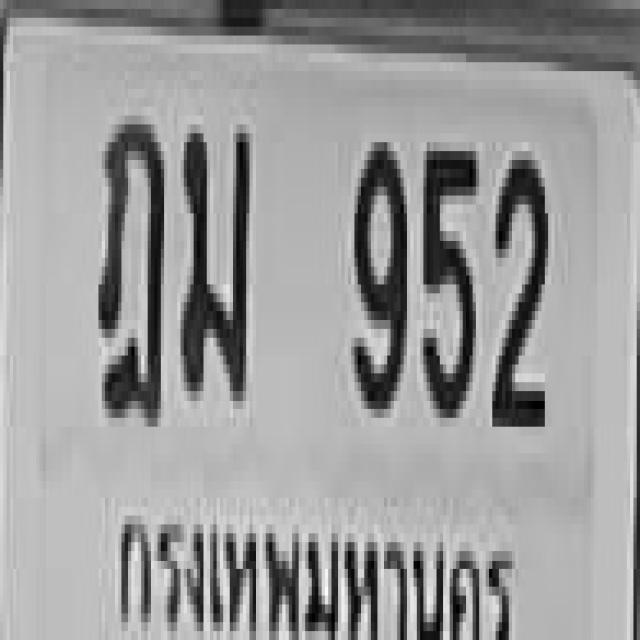2: (489, 151, 545, 418)
23DorChaDa: (95, 106, 161, 418)
42MorMa: (177, 116, 246, 391)
5: (420, 142, 476, 409)
9: (351, 133, 404, 409)
Bangkok: (105, 489, 515, 640)
